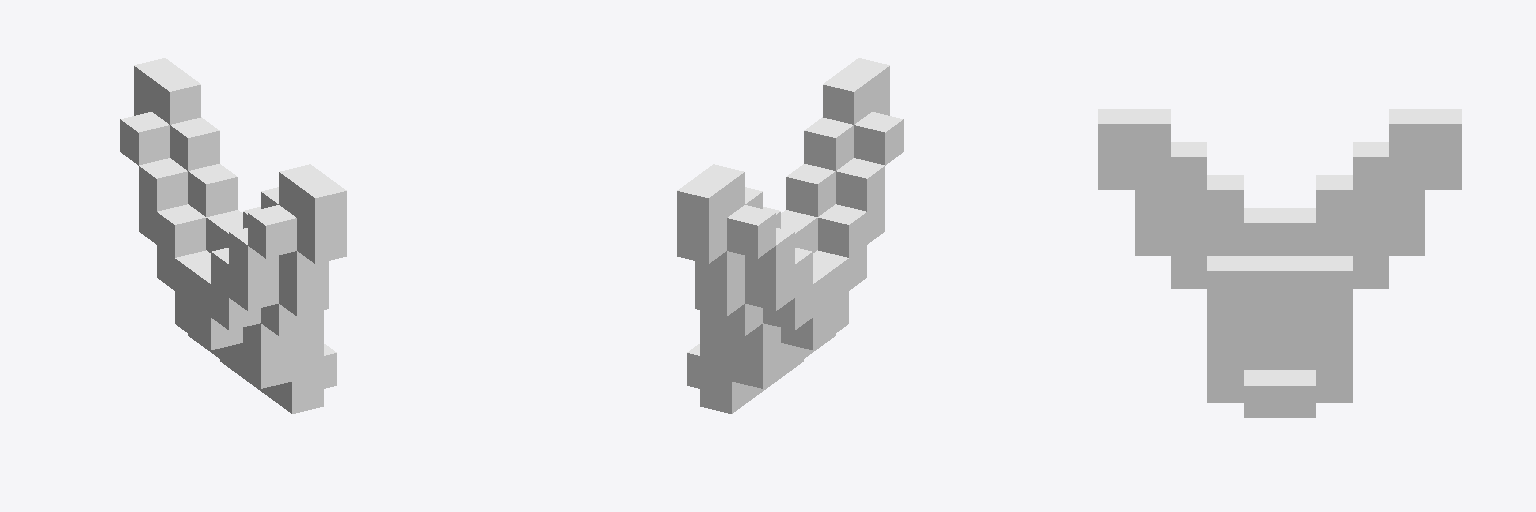
Rendered from Bunny-Bit-5-(White).obj.
The picture shows the model from 3 angles: view 1: azimuth 30°, elevation 25°; view 2: azimuth 150°, elevation 25°; view 3: azimuth 270°, elevation 25°; orthographic projection.
Parts seen in each view (by area): view 1: object 1; view 2: object 1; view 3: object 1.
Part boxes in pixels (x1,y1,x2,y2): object 1: (120,58,346,413); object 1: (677,58,903,413); object 1: (1098,109,1461,417).
Size of the model in its own units: 0.4 by 0.8 by 1.